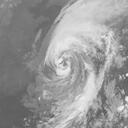cyclone: (45, 37, 92, 86)
